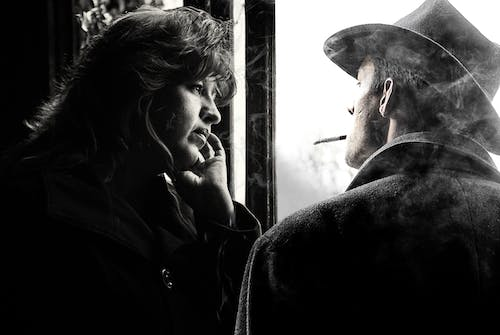cigarette: (312, 133, 351, 147)
